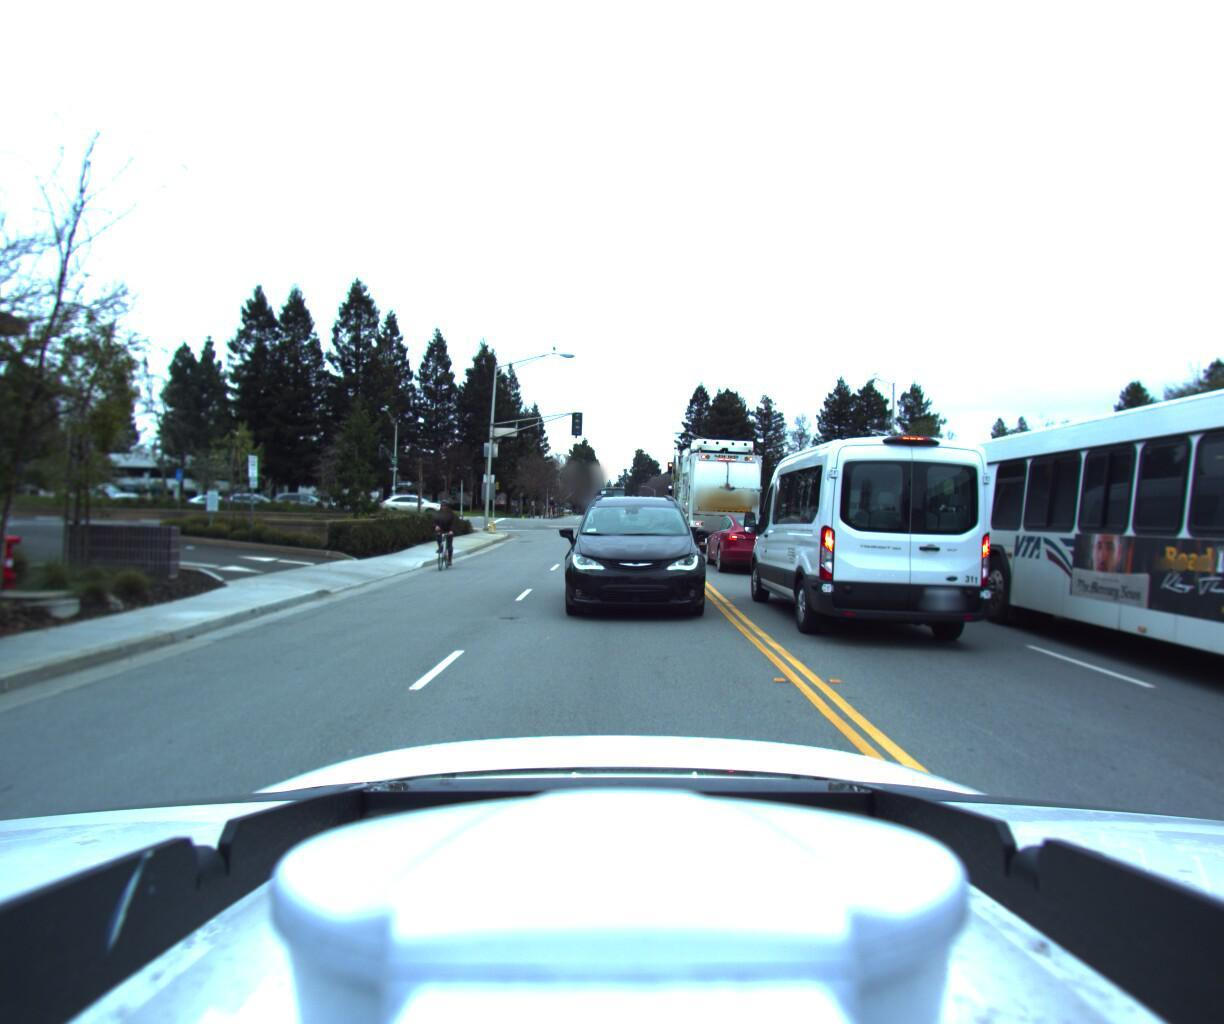bicycle: (417, 491, 465, 569), (542, 494, 556, 519)
bus: (925, 161, 1224, 1001), (585, 482, 623, 518)
car: (742, 422, 1009, 648), (554, 483, 708, 626), (697, 509, 804, 576), (266, 492, 339, 518), (376, 492, 447, 518)
truck: (663, 425, 764, 554)
